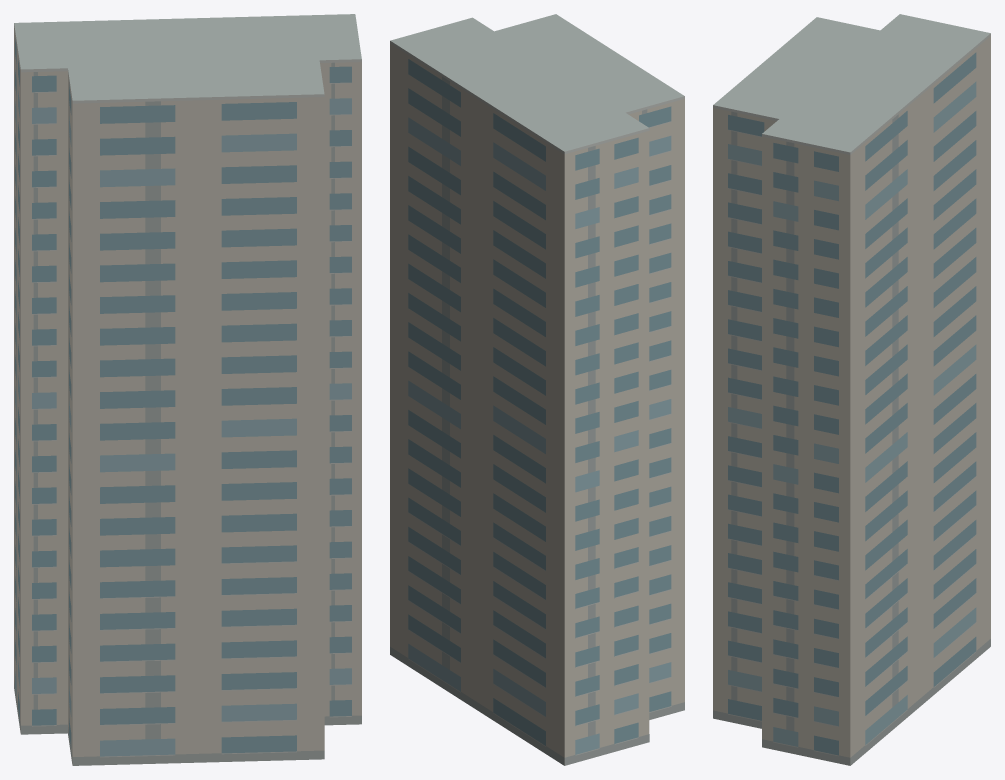
File: residential-7ca12d99-f07d-4d8e-9eec-d4e089eefbb4.glb
3 renders of one model, left to right at view 1: azimuth 30°, elevation 25°; view 2: azimuth 150°, elevation 25°; view 3: azimuth 270°, elevation 25°, orthographic. The views are drawn at different scales.
Parts seen in each view (by area): view 1: residential-7ca12d99-f07d-4d8e-9eec-d4e089eefbb4.tmp; view 2: residential-7ca12d99-f07d-4d8e-9eec-d4e089eefbb4.tmp; view 3: residential-7ca12d99-f07d-4d8e-9eec-d4e089eefbb4.tmp.
Boxes of the visible parts, x1=… form: residential-7ca12d99-f07d-4d8e-9eec-d4e089eefbb4.tmp: x1=14, y1=14, x2=361, y2=765; residential-7ca12d99-f07d-4d8e-9eec-d4e089eefbb4.tmp: x1=390, y1=14, x2=684, y2=765; residential-7ca12d99-f07d-4d8e-9eec-d4e089eefbb4.tmp: x1=713, y1=14, x2=990, y2=765.
Size of the model in its own units: 27.61 by 57 by 23.41.
